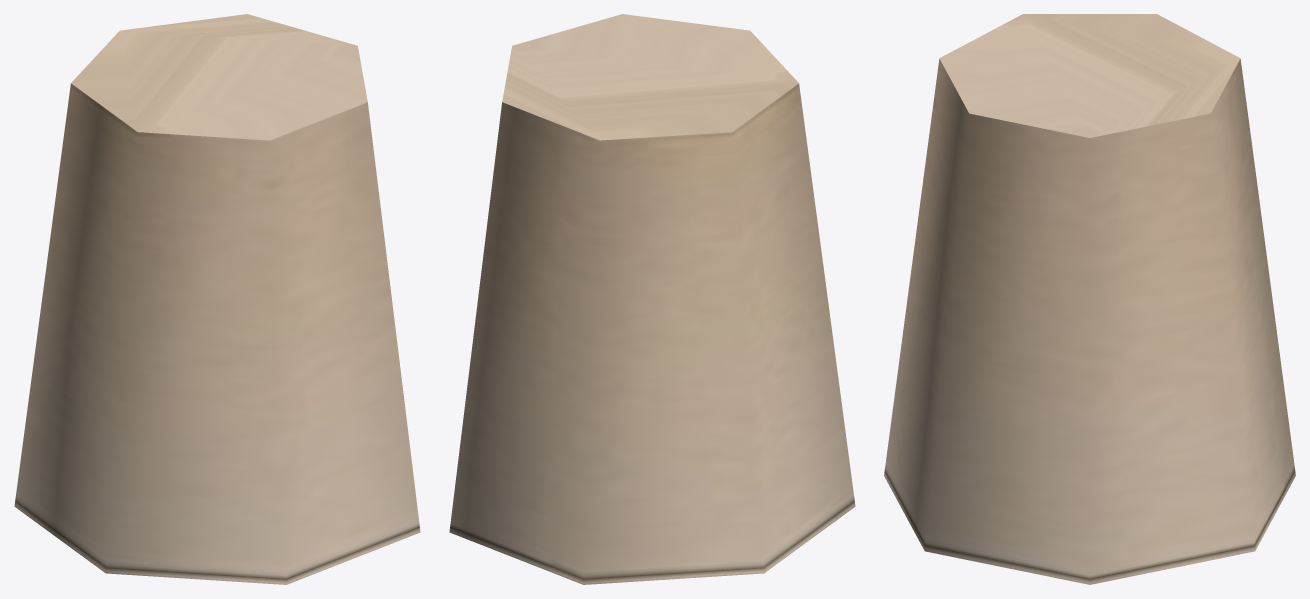
File: cup2.FBX
3 views of the same model, side by side, from view 1: azimuth 30°, elevation 25°; view 2: azimuth 150°, elevation 25°; view 3: azimuth 270°, elevation 25° (orthographic).
Visible parts, largest first — view 1: Cylinder001; view 2: Cylinder001; view 3: Cylinder001.
Boxes of the visible parts, x1,y1,x2,y2 form: Cylinder001: (14, 14, 420, 584); Cylinder001: (449, 14, 855, 584); Cylinder001: (884, 14, 1295, 584).
Size of the model in its own units: 26.36 by 30.62 by 27.04.
Materials: 3 (3 with a texture image).
